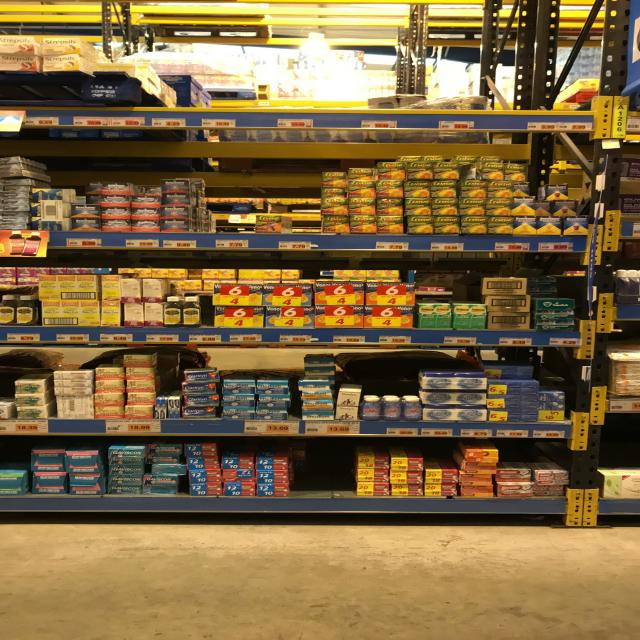void: (288, 176, 320, 250), (290, 444, 325, 509), (492, 65, 526, 131), (227, 181, 258, 250), (195, 180, 225, 249), (530, 66, 561, 132), (563, 66, 594, 132), (234, 71, 269, 128), (202, 67, 233, 129), (326, 443, 355, 509), (269, 73, 302, 129), (336, 74, 369, 128), (302, 72, 334, 127)
